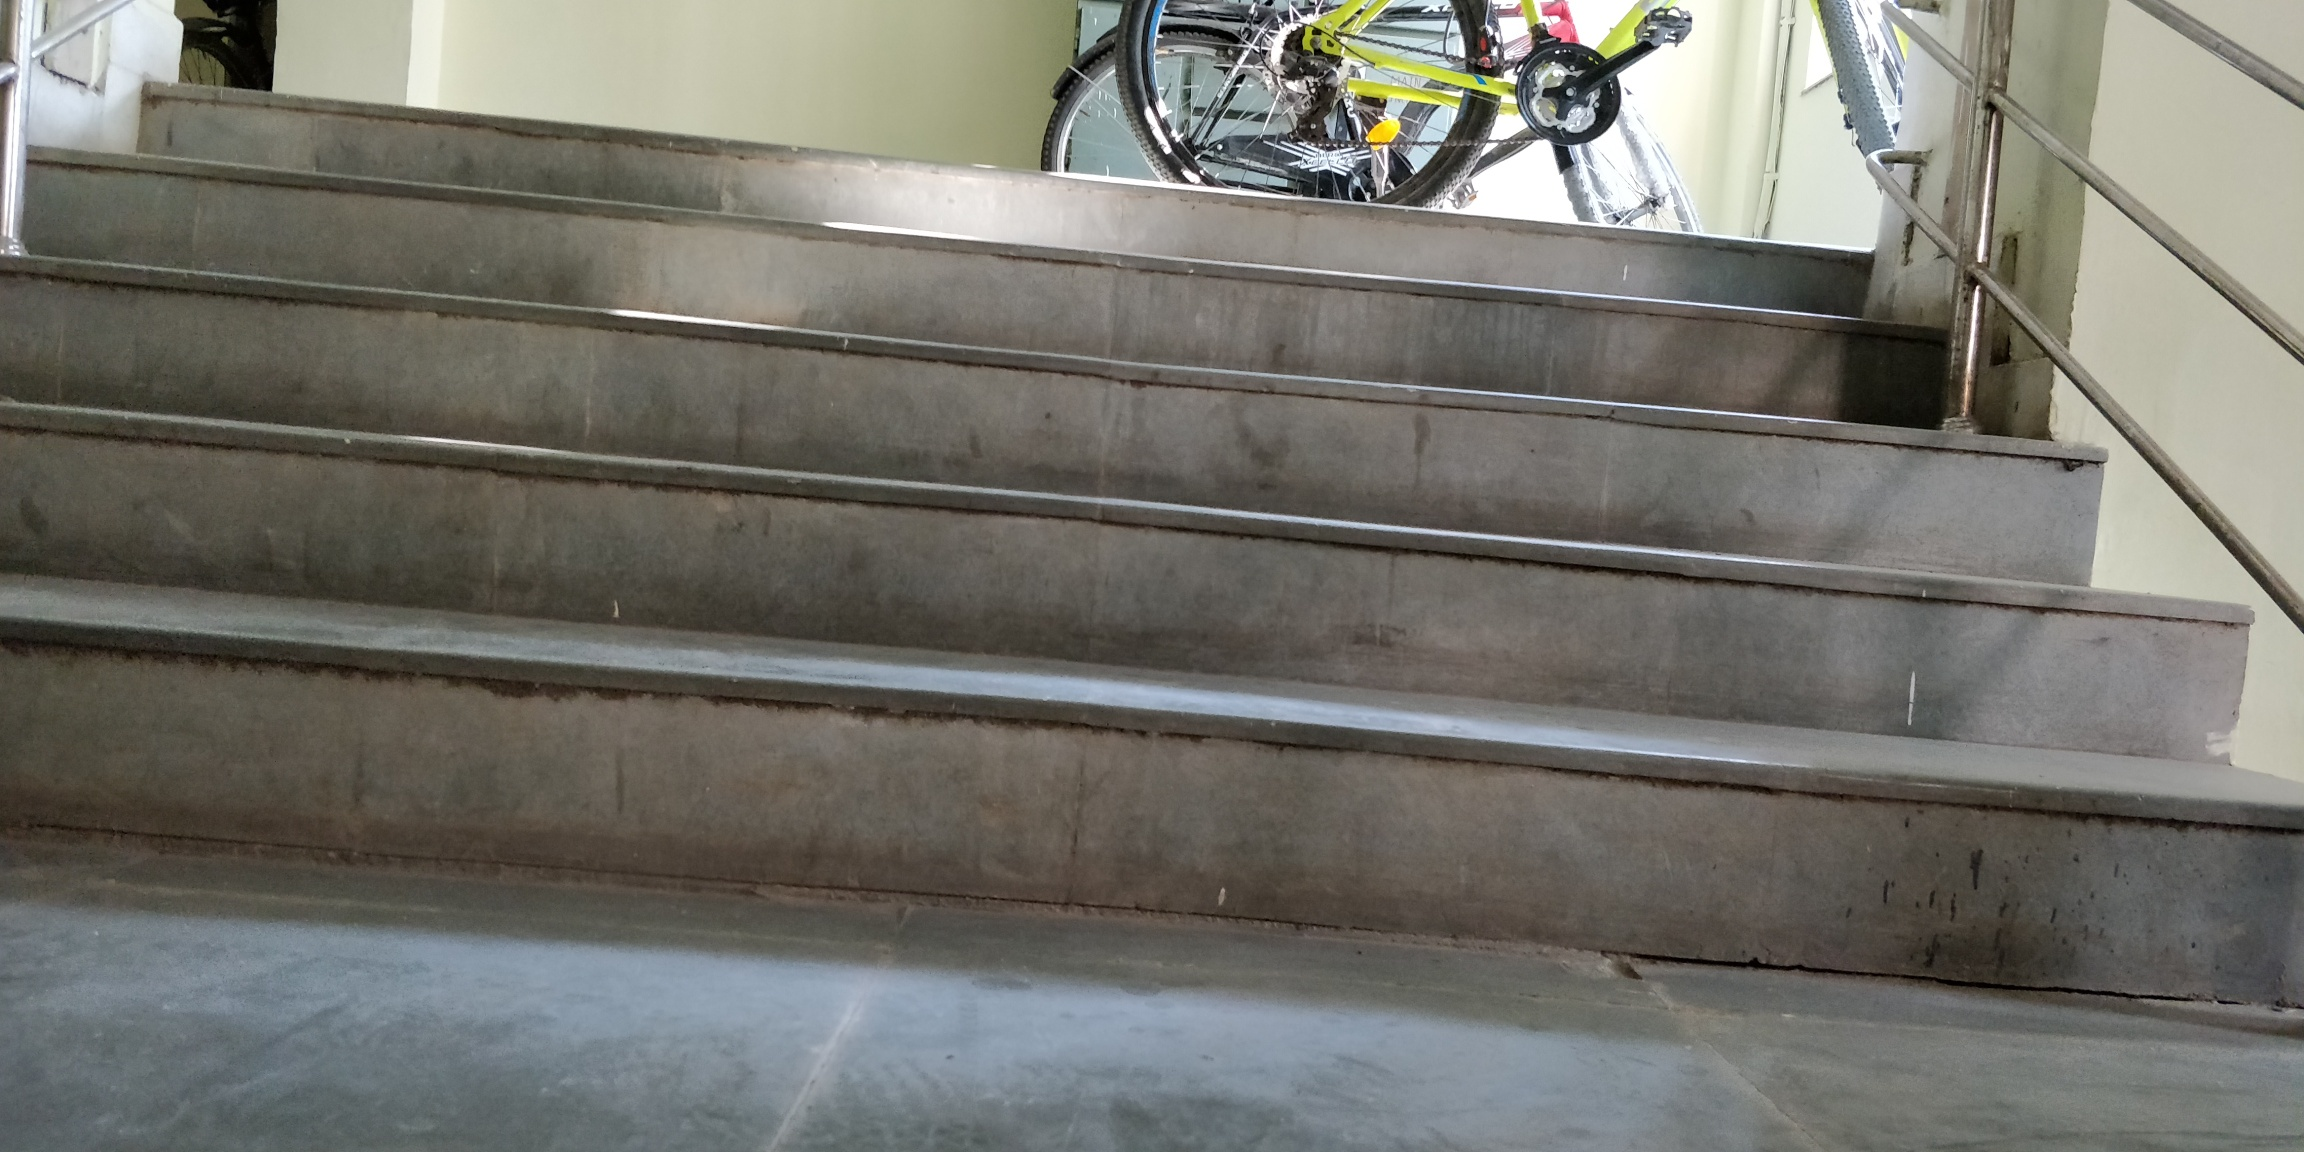stairs_up: (10, 87, 2186, 955)
